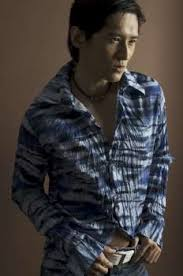asian_male: (67, 2, 145, 86)
